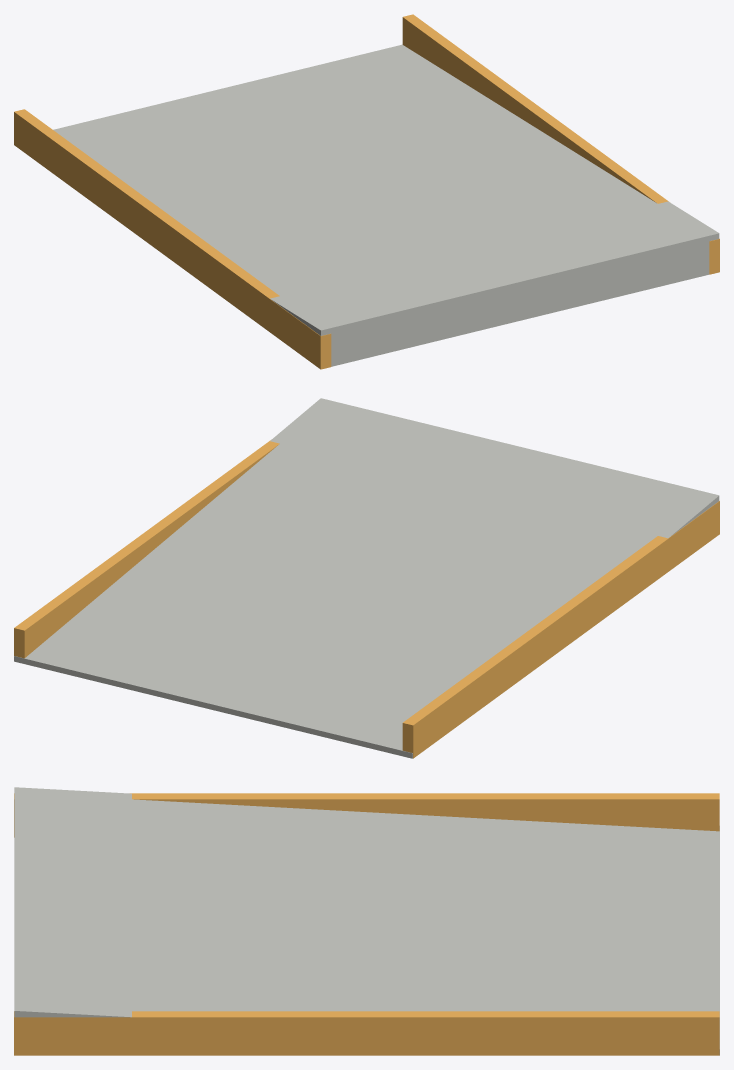
File: dugout-ramp-85a15561.glb
3 views of the same model, one above another, from view 1: azimuth 30°, elevation 25°; view 2: azimuth 150°, elevation 25°; view 3: azimuth 270°, elevation 25° (orthographic). The views are drawn at different scales.
Parts seen in each view (by area): view 1: dugout-ramp; view 2: dugout-ramp; view 3: dugout-ramp.
Boxes of the visible parts, x1,y1,x2,y2 form: dugout-ramp: (14, 14, 719, 369); dugout-ramp: (14, 398, 719, 758); dugout-ramp: (14, 787, 719, 1055).
Bounding box in the file's own units: 1.5 × 0.1399 × 2.
